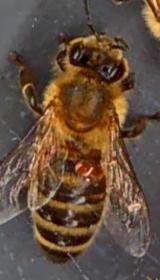varroa_mite: (68, 156, 98, 178)
